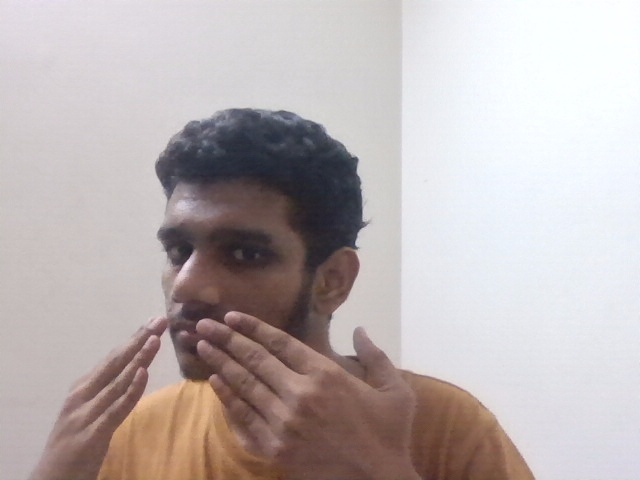thanks: (50, 310, 475, 467)
